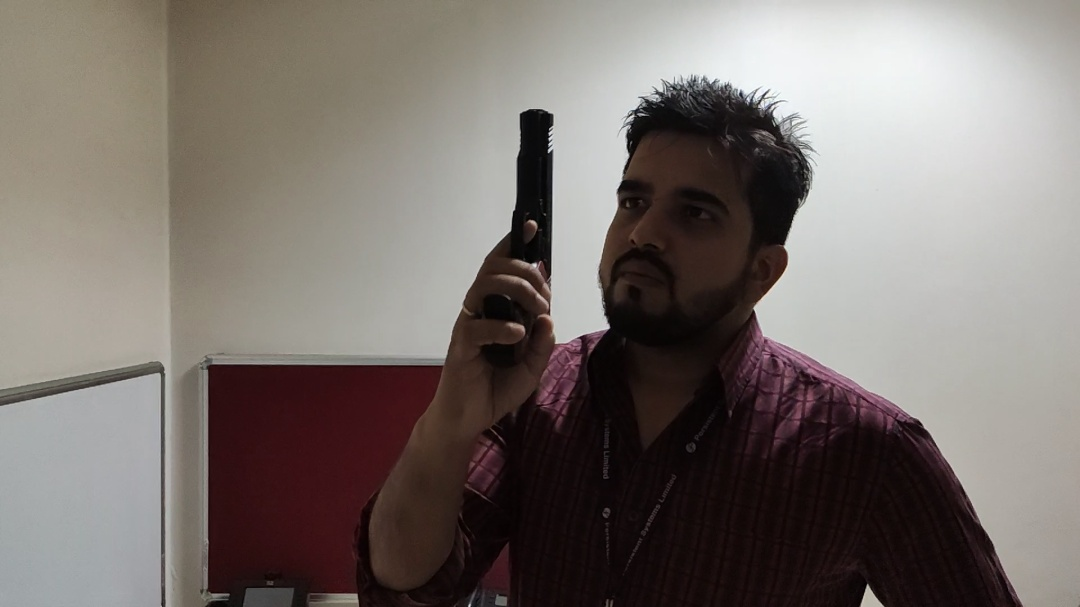gun: (461, 106, 557, 375)
